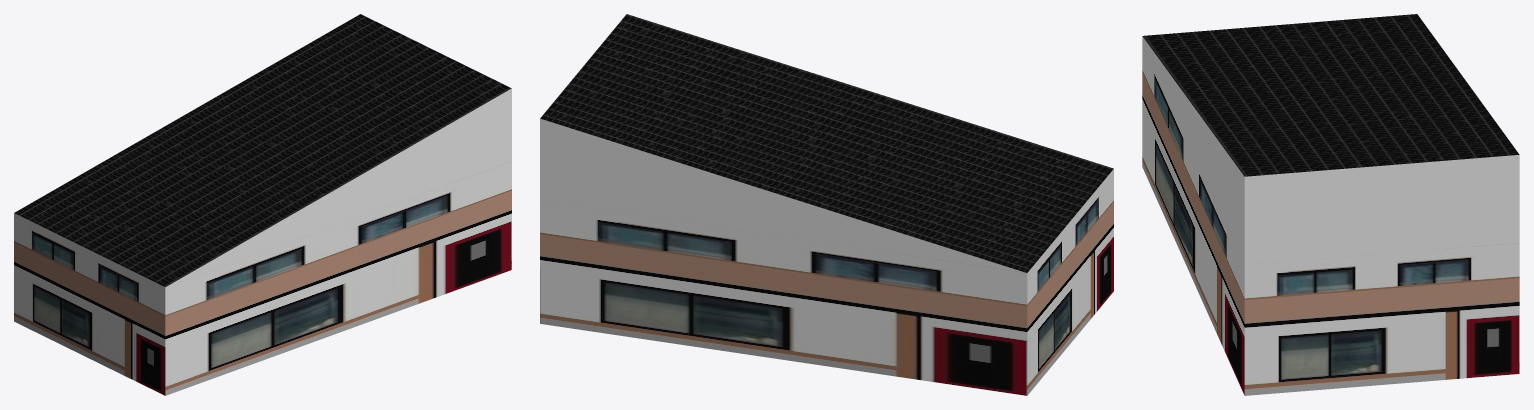
3 renders of one model, left to right at view 1: azimuth 30°, elevation 25°; view 2: azimuth 150°, elevation 25°; view 3: azimuth 270°, elevation 25°, orthographic. The views are drawn at different scales.
Visible parts, largest first — view 1: CityEngineMaterial_14_m, CityEngineMaterial_5_m, CityEngineMaterial_3_m; view 2: CityEngineMaterial_5_m, CityEngineMaterial_14_m, CityEngineMaterial_3_m; view 3: CityEngineMaterial_5_m, CityEngineMaterial_14_m, CityEngineMaterial_3_m.
Part boxes in pixels (bbox=[...]): CityEngineMaterial_14_m: bbox=[14, 14, 511, 286]; CityEngineMaterial_5_m: bbox=[14, 161, 511, 395]; CityEngineMaterial_3_m: bbox=[166, 88, 511, 286]; CityEngineMaterial_5_m: bbox=[540, 169, 1113, 395]; CityEngineMaterial_14_m: bbox=[540, 14, 1113, 272]; CityEngineMaterial_3_m: bbox=[540, 118, 1025, 272]; CityEngineMaterial_5_m: bbox=[1142, 36, 1519, 395]; CityEngineMaterial_14_m: bbox=[1142, 14, 1519, 176]; CityEngineMaterial_3_m: bbox=[1143, 37, 1519, 264].
Size of the model in its own units: 35.43 by 14.44 by 22.52.
